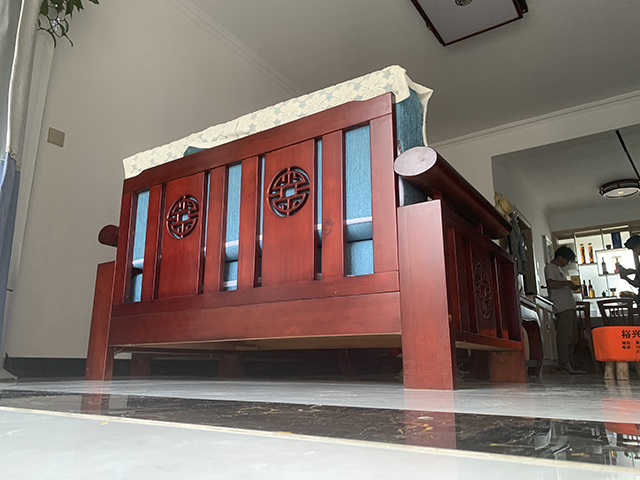sofa: (83, 61, 530, 392)
stool: (591, 325, 640, 383)
